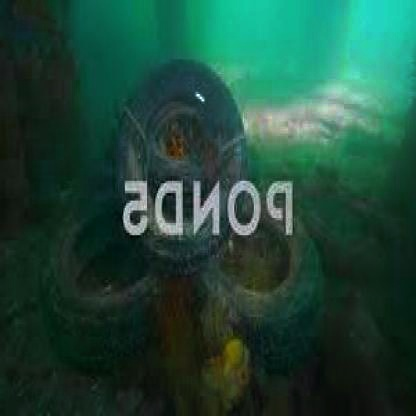tire: (121, 22, 240, 260), (204, 223, 356, 386), (53, 193, 172, 386)
